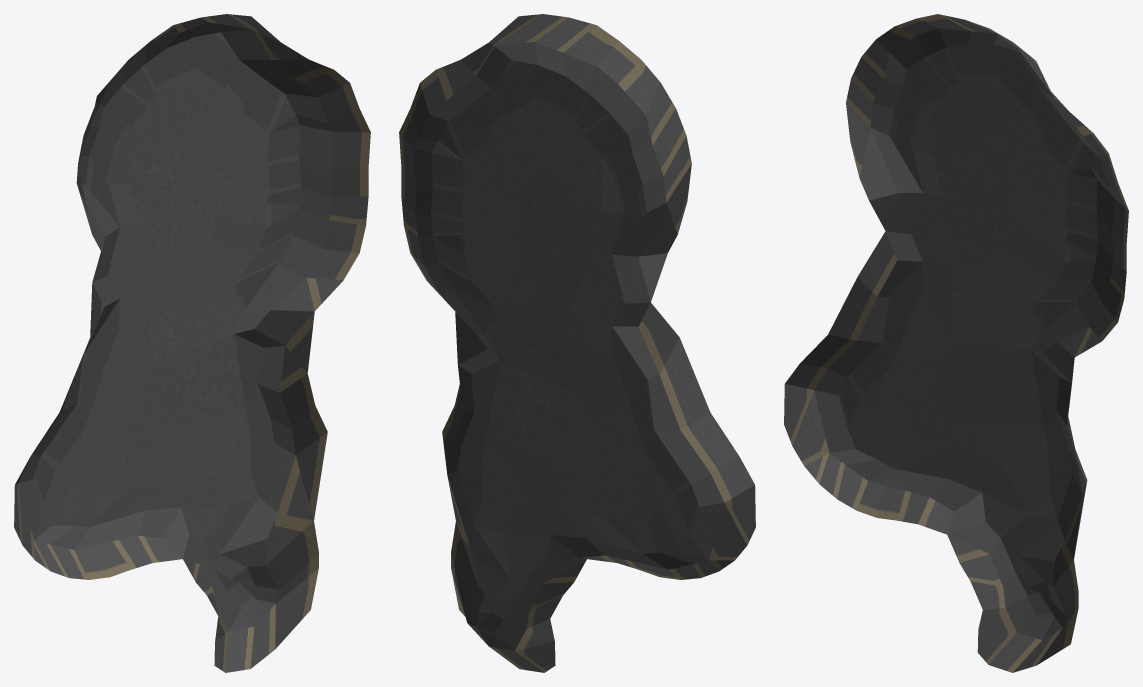
Rendered from island_6_0.fbx.
3 views of the same model, side by side, from view 1: azimuth 30°, elevation 25°; view 2: azimuth 150°, elevation 25°; view 3: azimuth 330°, elevation 25° (orthographic). The views are drawn at different scales.
Parts seen in each view (by area): view 1: Circle.019; view 2: Circle.019; view 3: Circle.019.
Part boxes in pixels (box(x1,y1,x2,y2)): Circle.019: box(14, 14, 370, 672); Circle.019: box(399, 14, 755, 672); Circle.019: box(784, 14, 1128, 672).
Size of the model in its own units: 4452 by 7912 by 436.
